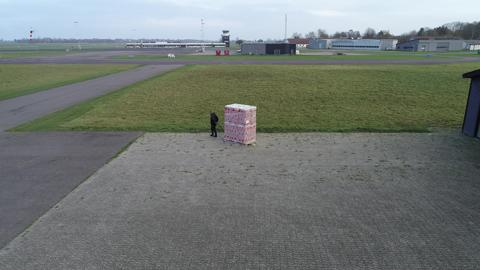RockwoolPallet: (223, 102, 258, 145)
